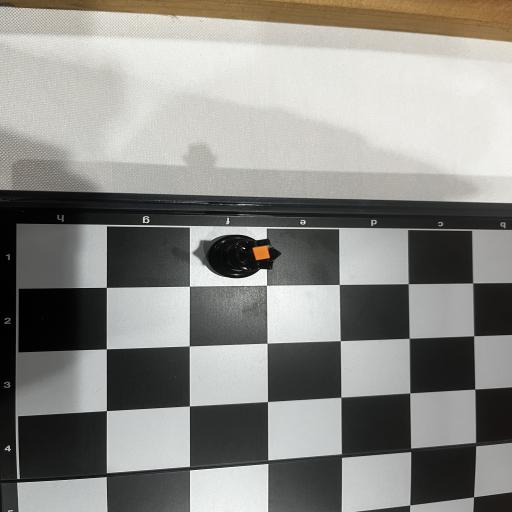Black queen: (207, 234, 281, 279)
